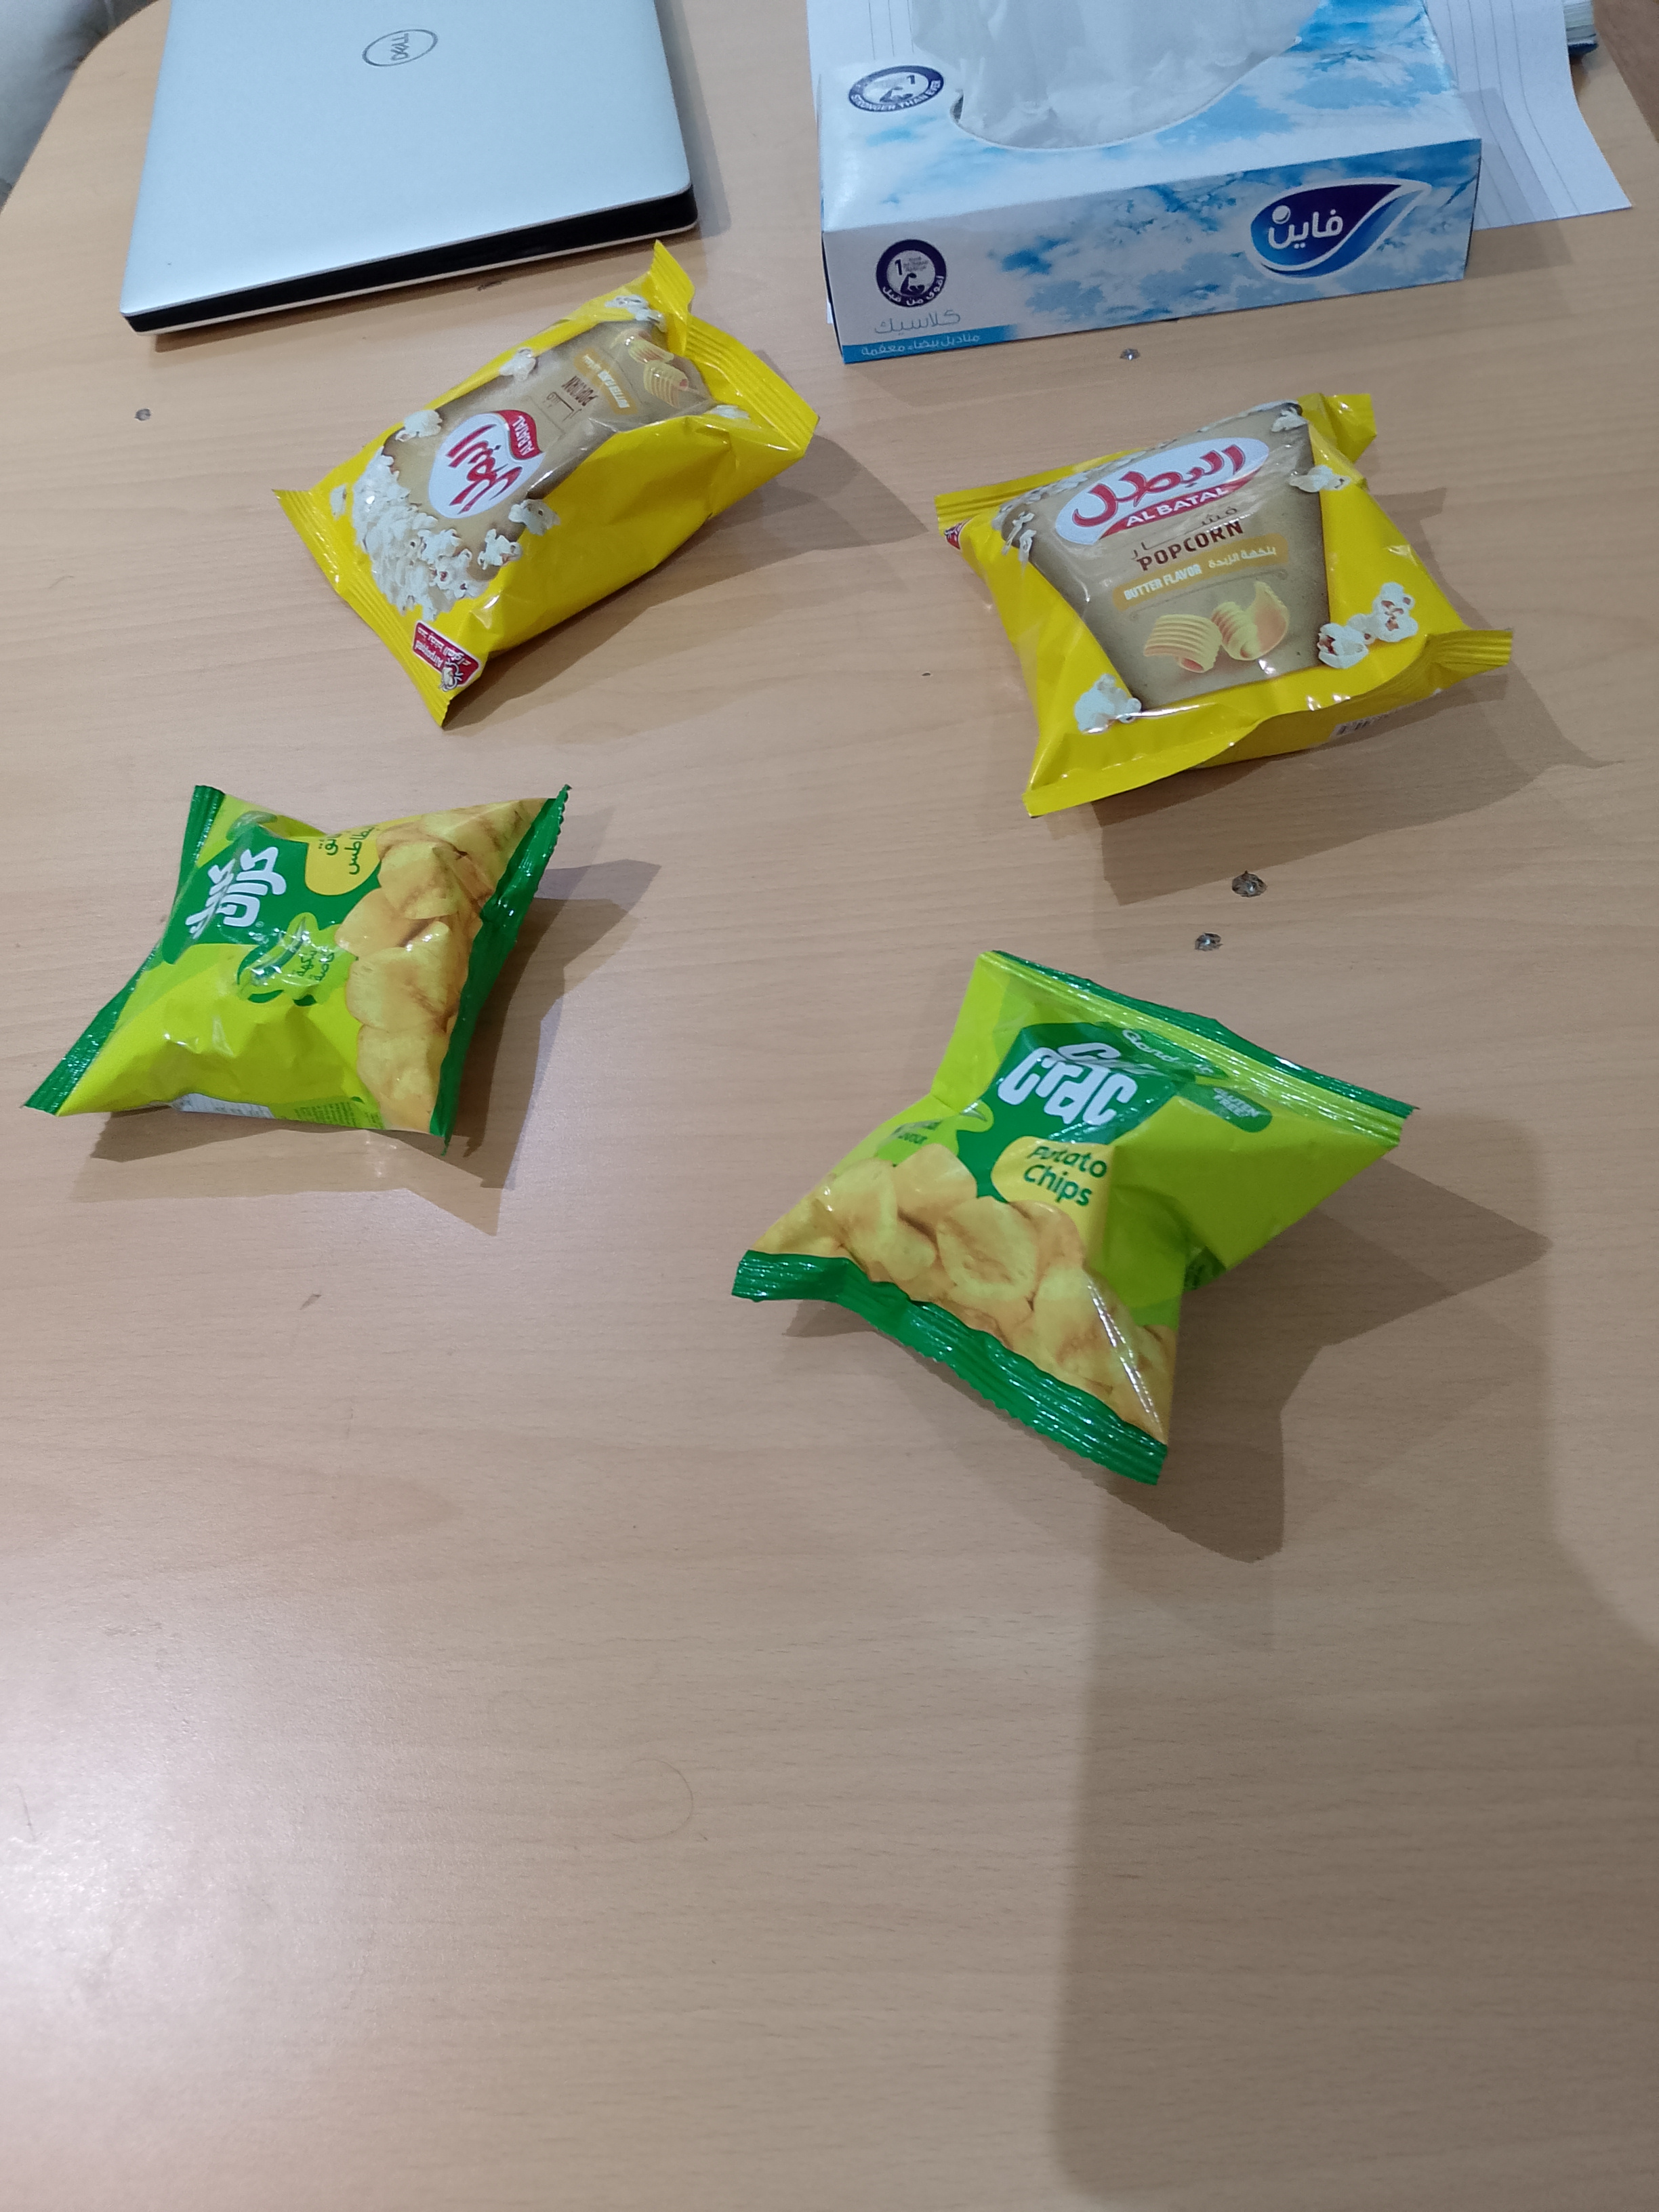albatal_popcorn_butter_flavor: (270, 237, 822, 730), (934, 392, 1515, 821)
cric_crac_special_flavour: (729, 948, 1422, 1488), (16, 781, 571, 1158)
